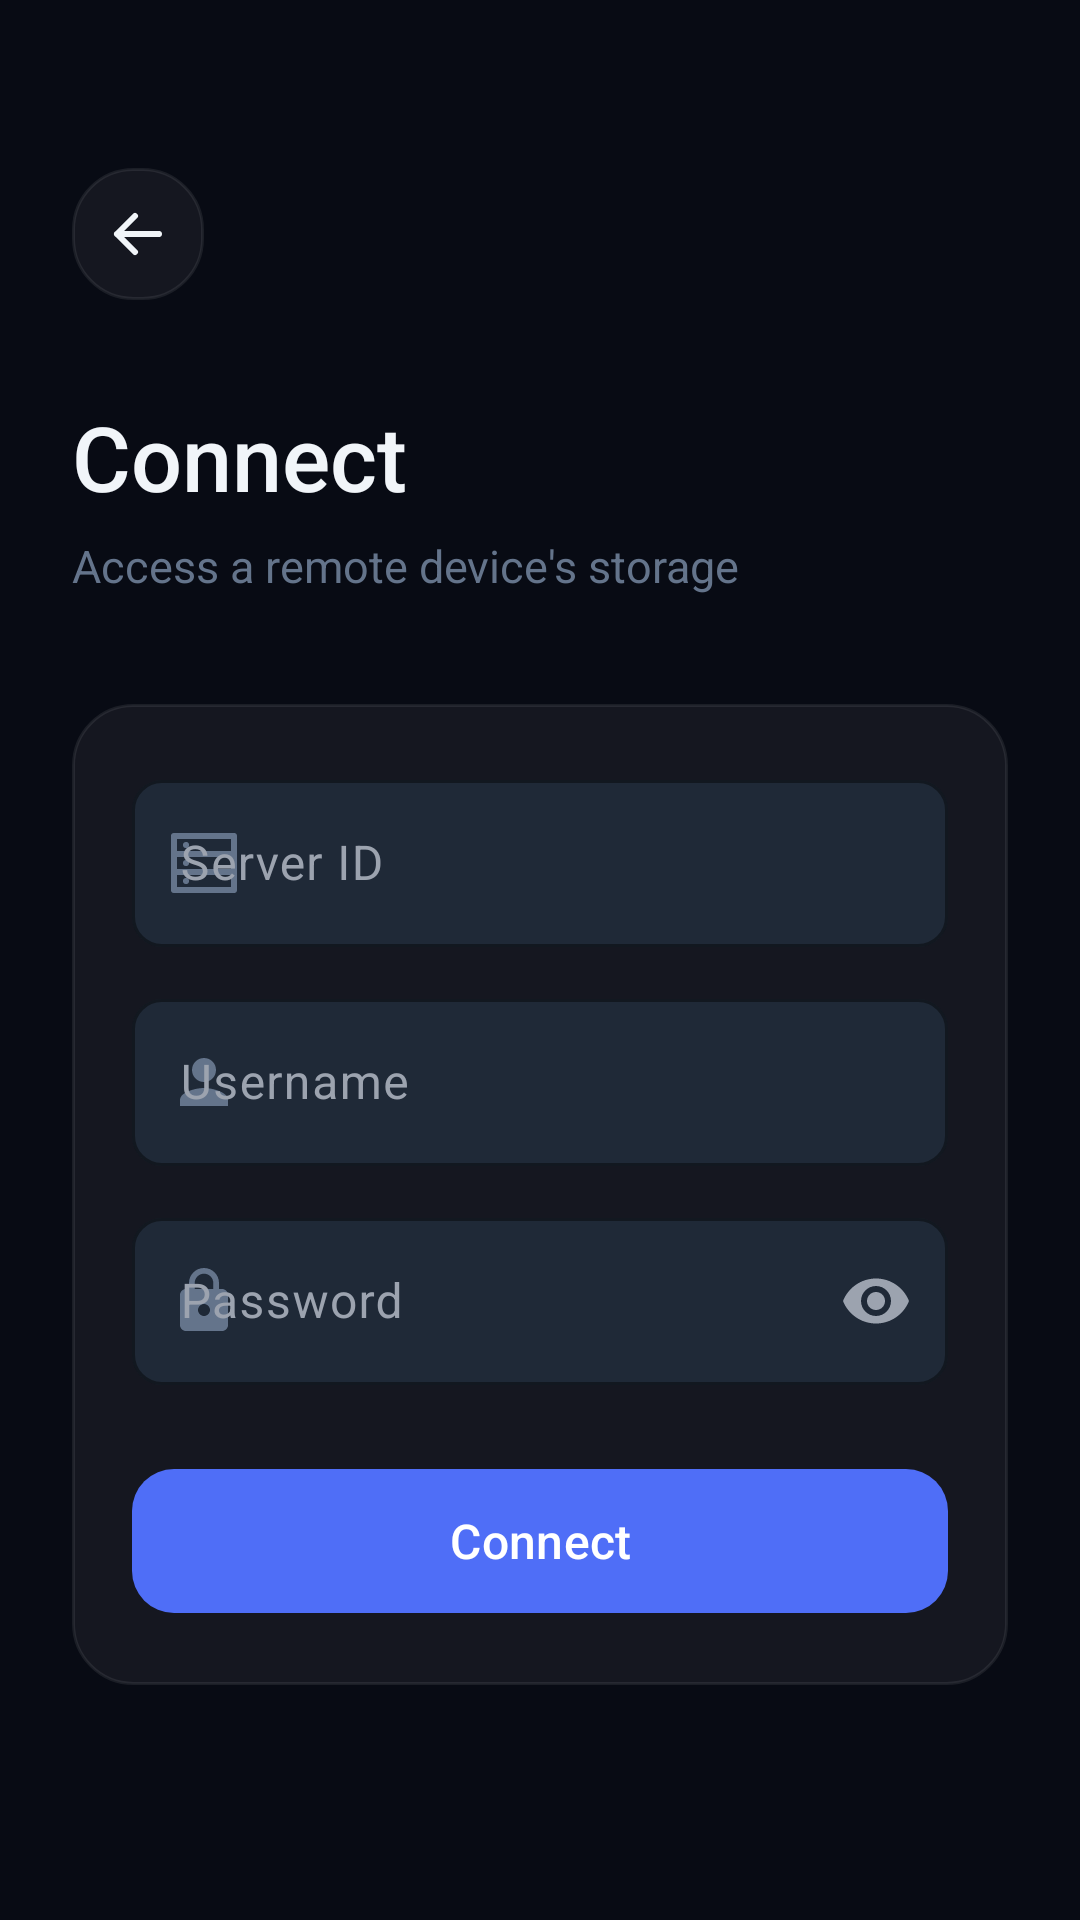

Where icons sit on this 1080w x 1920h app screen, as (x1, y1, x2, y2):
back: (72, 168, 204, 300)
